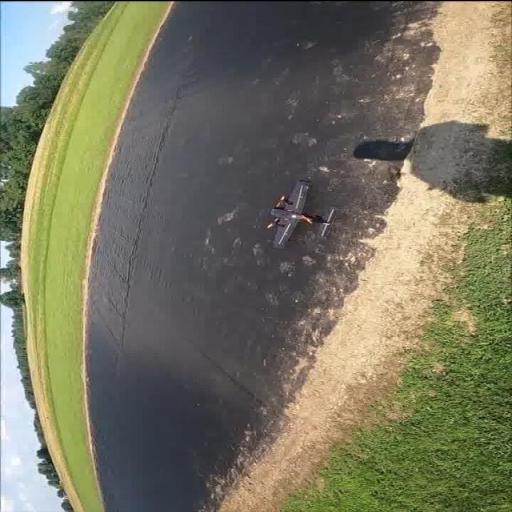uav: (254, 176, 348, 250)
